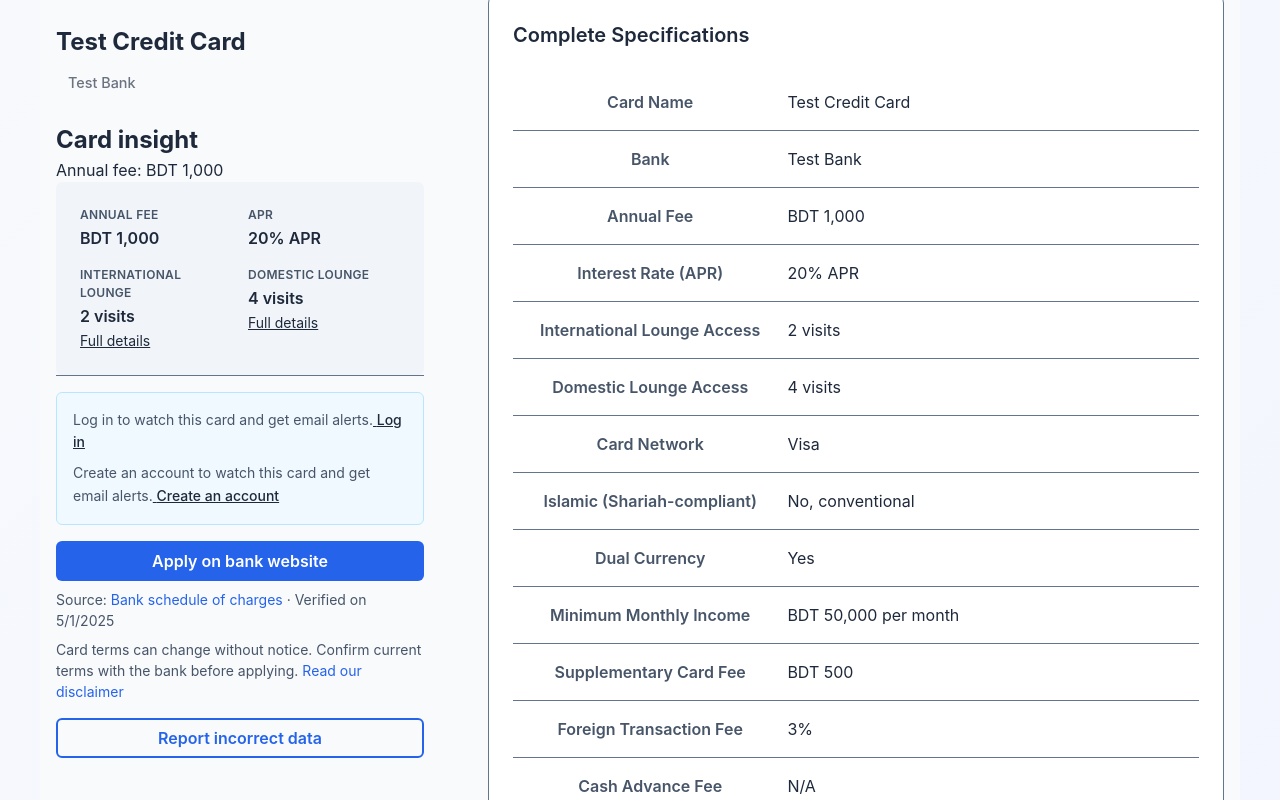
it: Report incorrect data dialog › requires a message, submits to the endpoint and shows success
(page scrolled)
Click the button "Report incorrect data" at (240,738), box [56,718,424,758]
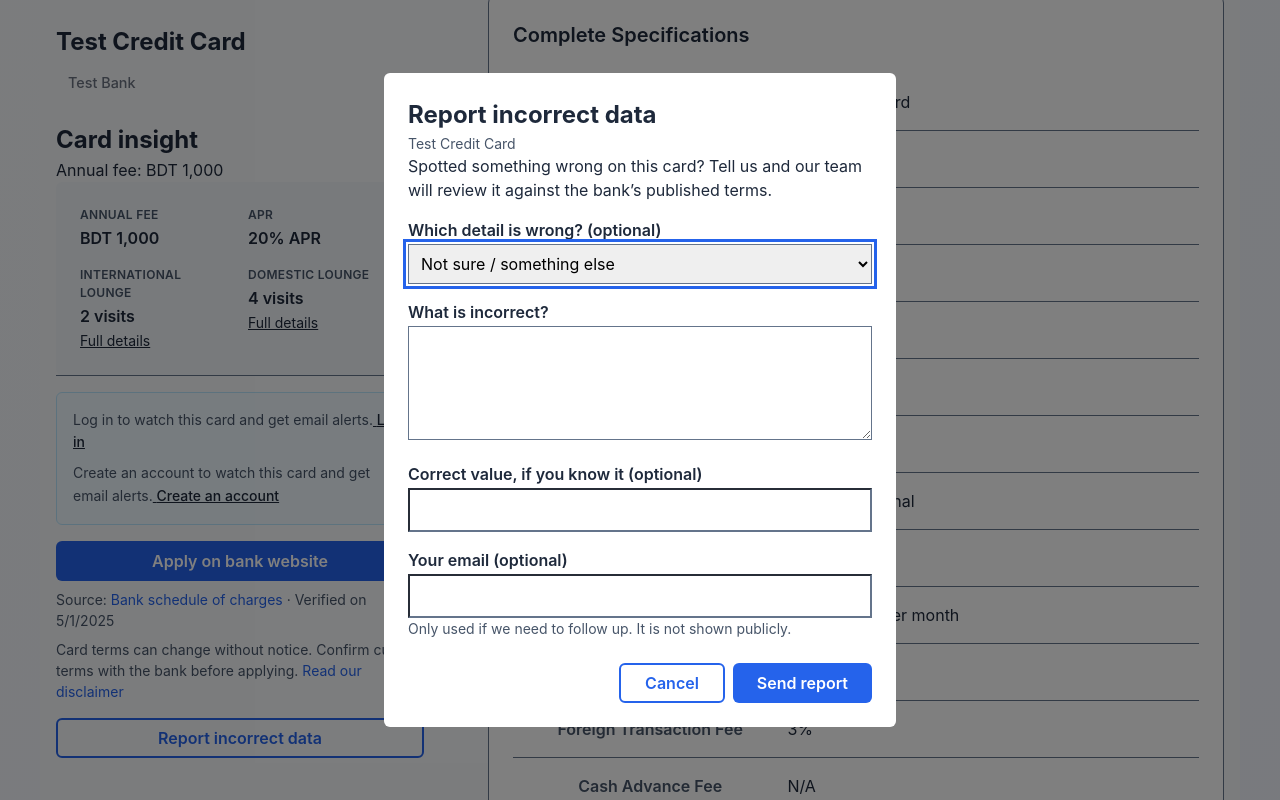
Click the button "Send report" at (802,683), box [733,663,872,703]
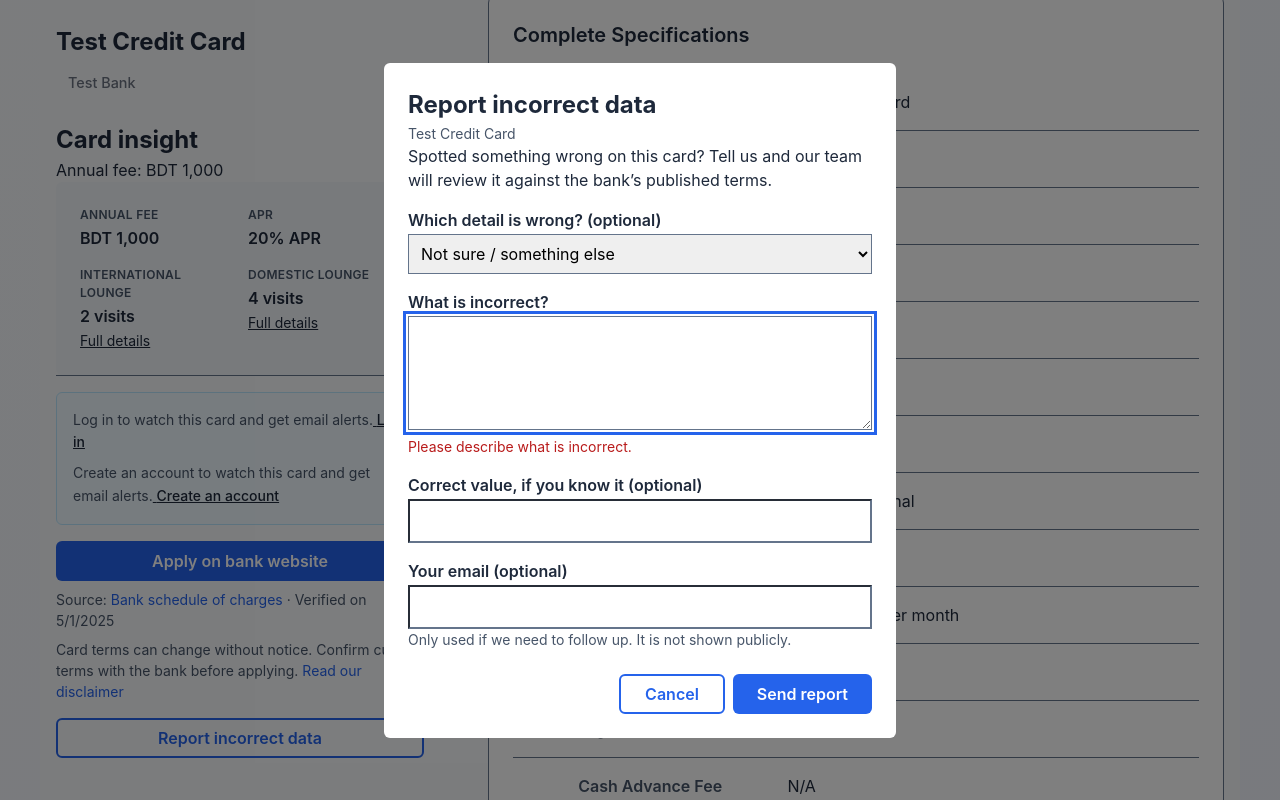
Now the text "Please describe what is incorrect." is shown, box [408,438,632,454]
Select "Annual fee" in the dropdown labelled "Which detail is wrong? (optional)" at (640,254), box [408,234,872,274]
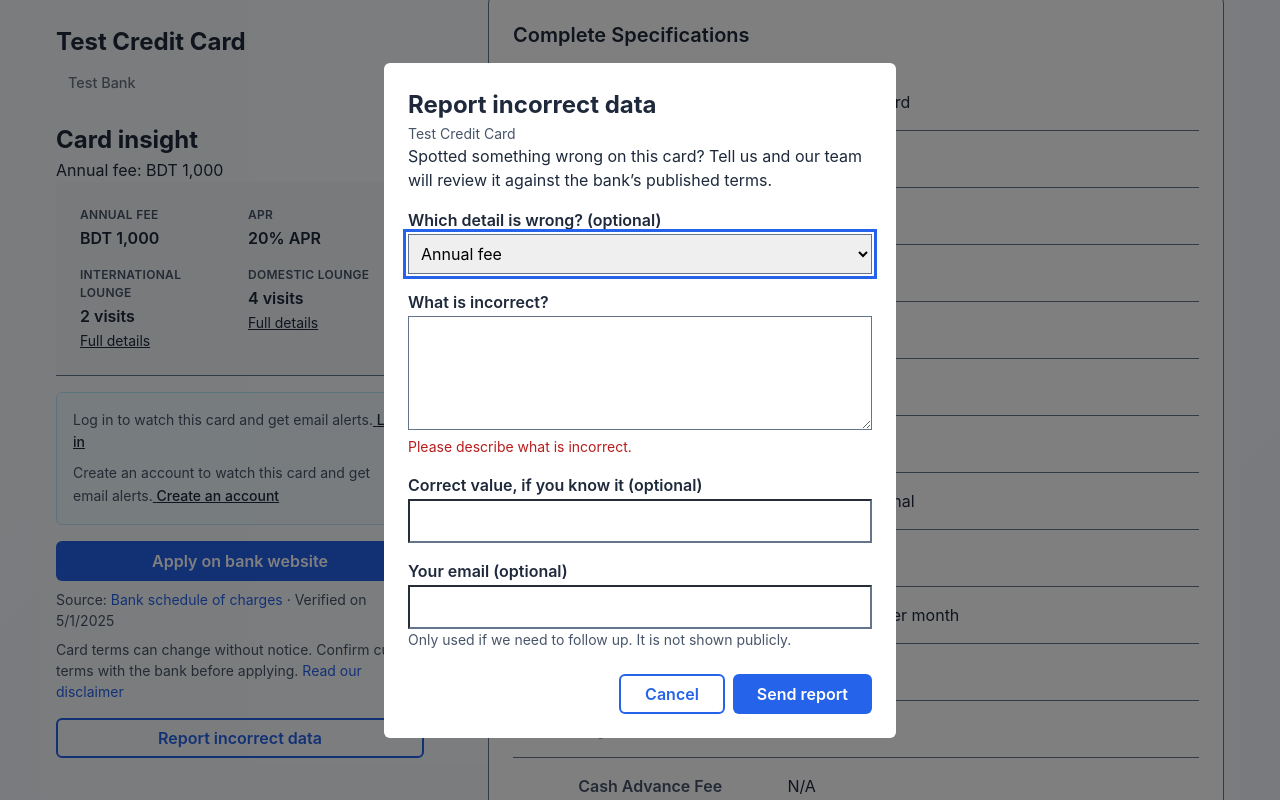
Type "Fee is 2000" into the text box labelled "What is incorrect?" at (640,372), box [408,316,872,430]
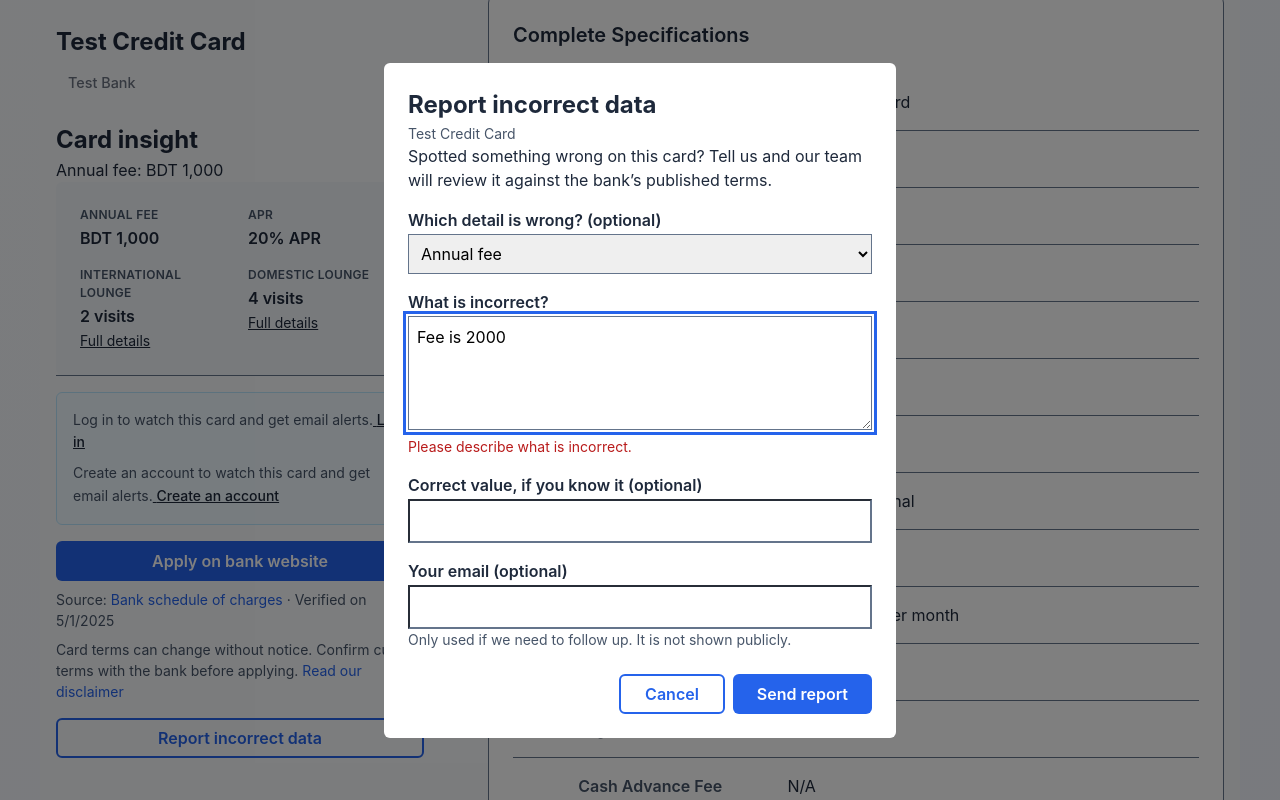
Click the button "Send report" at (802,694), box [733,674,872,714]
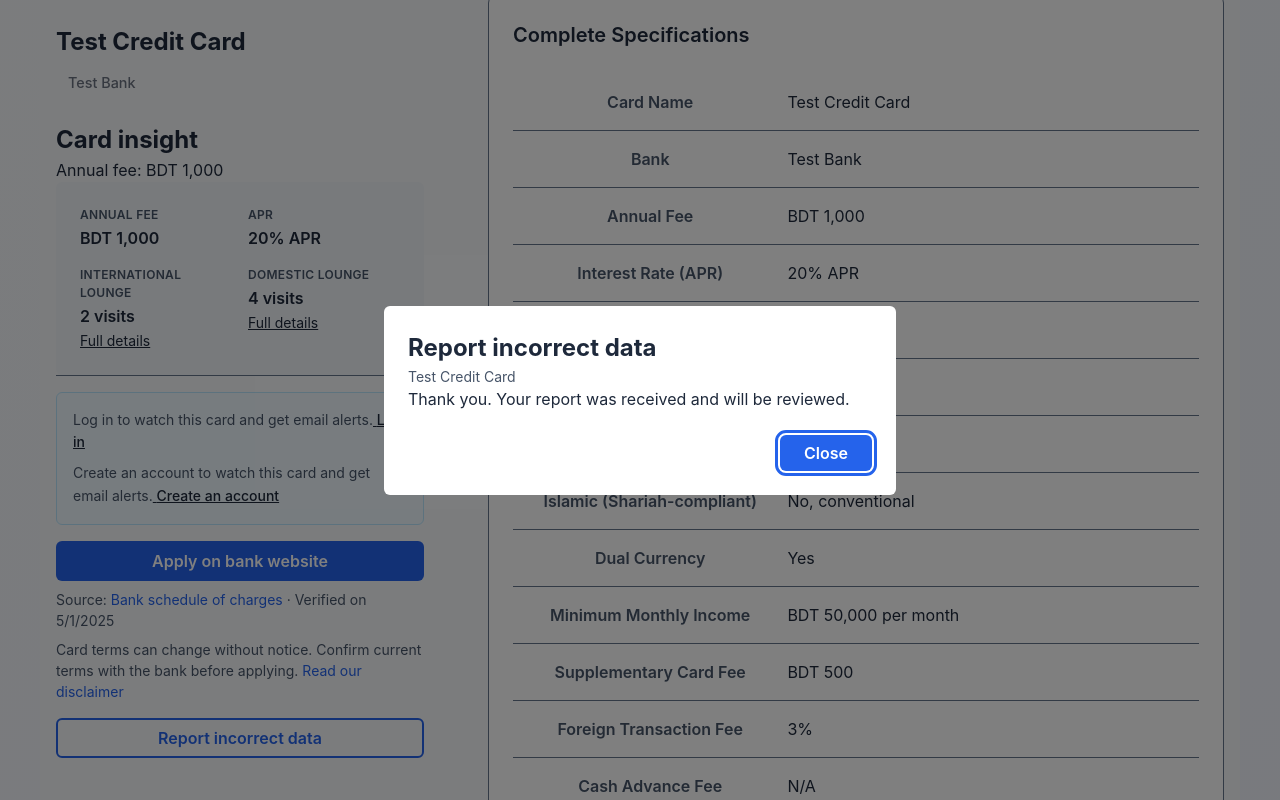
Now the text "Thank you. Your report was received and will be reviewed." is shown, box [408,386,872,410]
